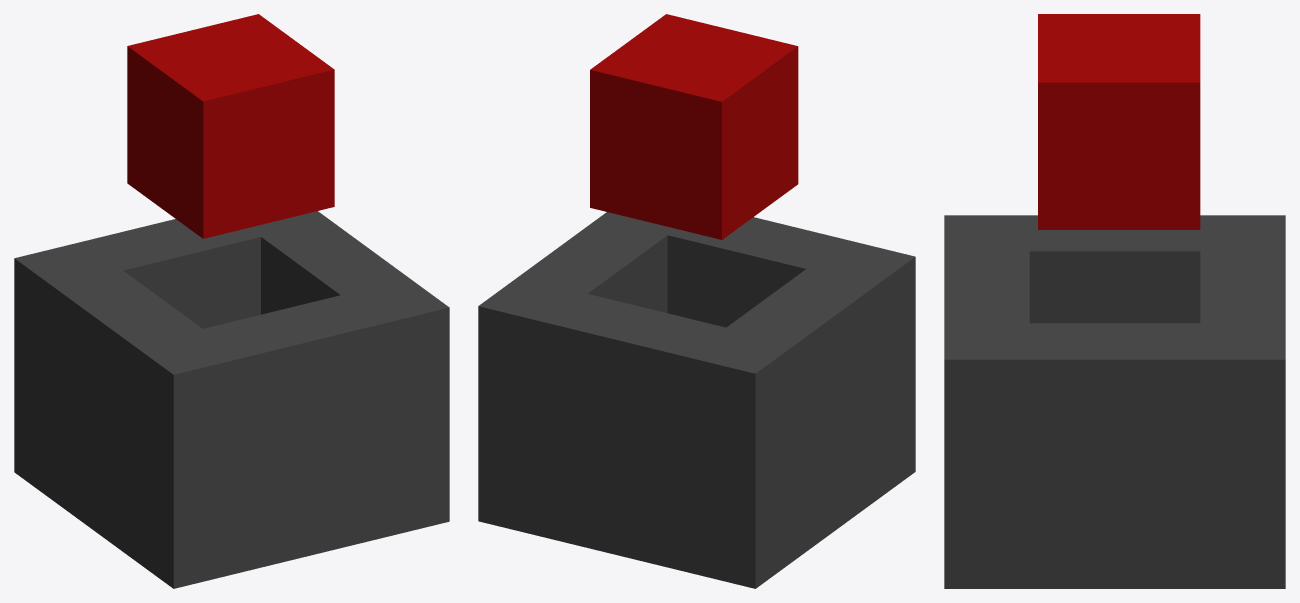
File: the kevin button.fbx
The picture shows the model from 3 angles, left to right: view 1: azimuth 30°, elevation 25°; view 2: azimuth 150°, elevation 25°; view 3: azimuth 270°, elevation 25°; orthographic projection. The views are drawn at different scales.
Parts seen in each view (by area): view 1: pCube2, pCube3; view 2: pCube2, pCube3; view 3: pCube2, pCube3.
Part boxes in pixels (left/top/right/bottom): pCube2: left=14, top=211, right=449, bottom=588; pCube3: left=127, top=14, right=334, bottom=238; pCube2: left=478, top=212, right=915, bottom=588; pCube3: left=590, top=14, right=798, bottom=239; pCube2: left=944, top=215, right=1285, bottom=588; pCube3: left=1038, top=14, right=1200, bottom=229.
Size of the model in its own units: 0.855 by 1.3 by 0.855.
